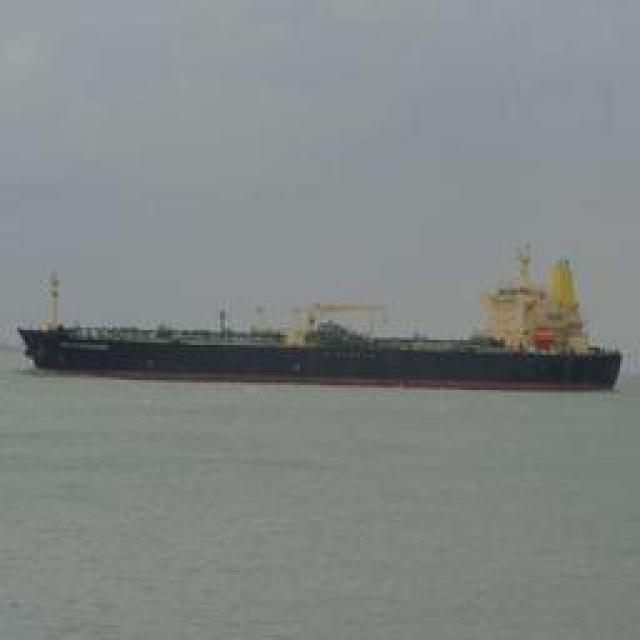Ship: (16, 324, 614, 387)
